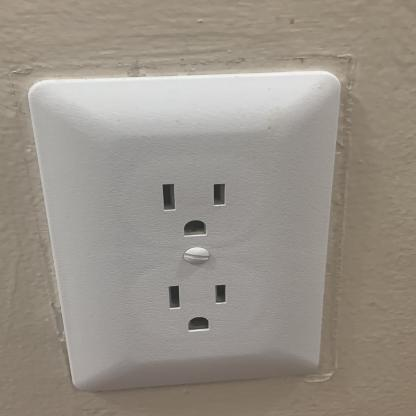OUTLET: (28, 72, 338, 395)
